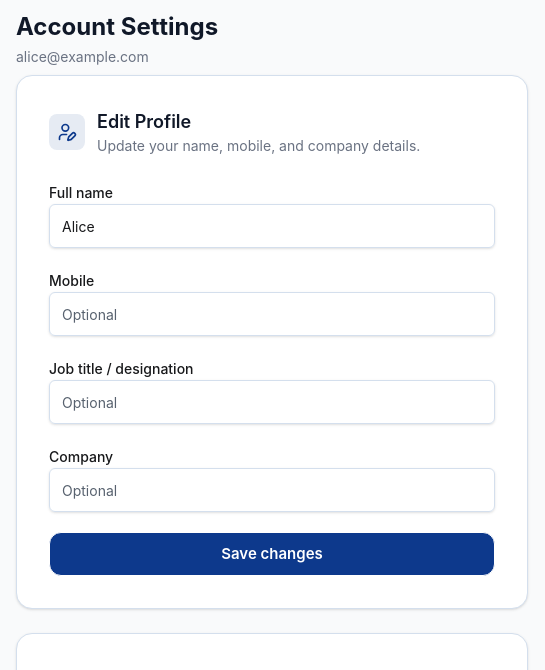
Scenario: AccountSettings — fullName input pre-fill › keeps the new name in the input after the success banner appears
This screenshot has width=545, height=670.
Replace the text in the field labelled "Full name" with "Bob" at (272, 226), box top-left (49, 204), bottom-right (495, 248)
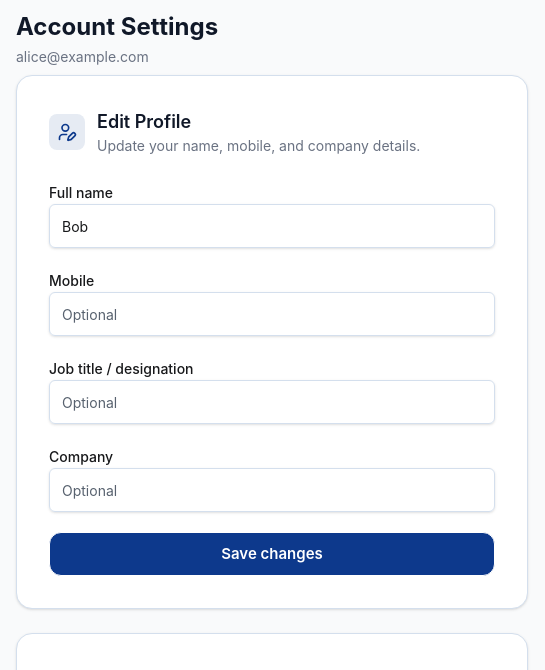
Click the button "Save changes".
click(272, 554)  # box top-left (49, 532), bottom-right (495, 576)
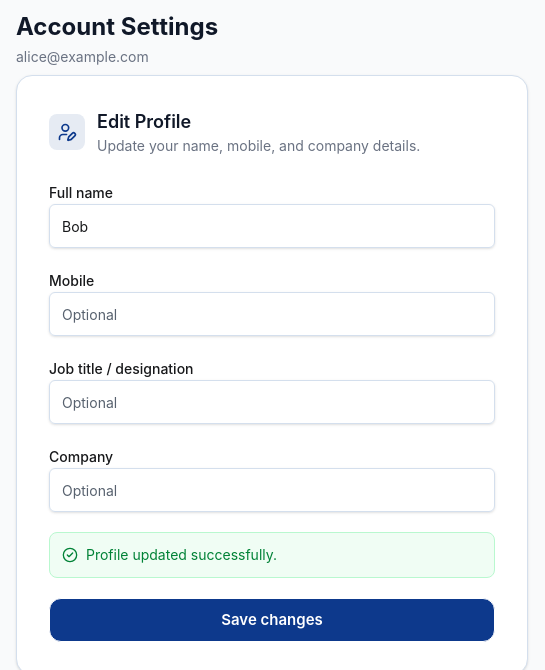
Expected: the text "Profile updated successfully." is shown, top-left (49, 532), bottom-right (495, 578)
